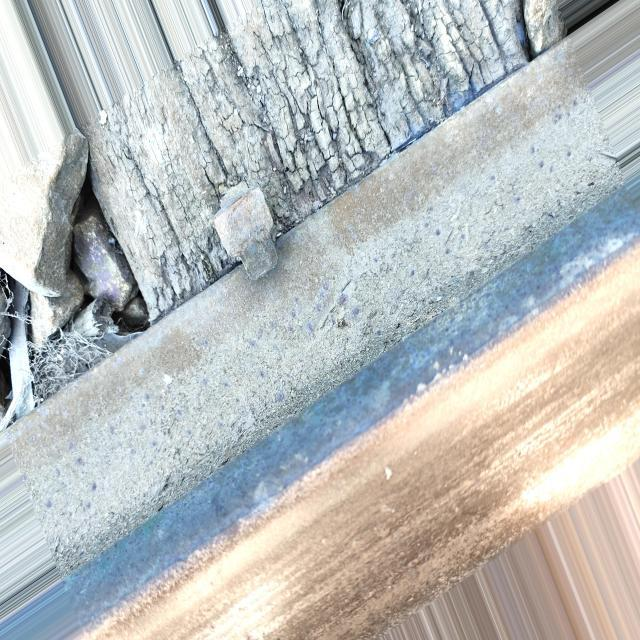Good Fasteners: (215, 188, 277, 280)
